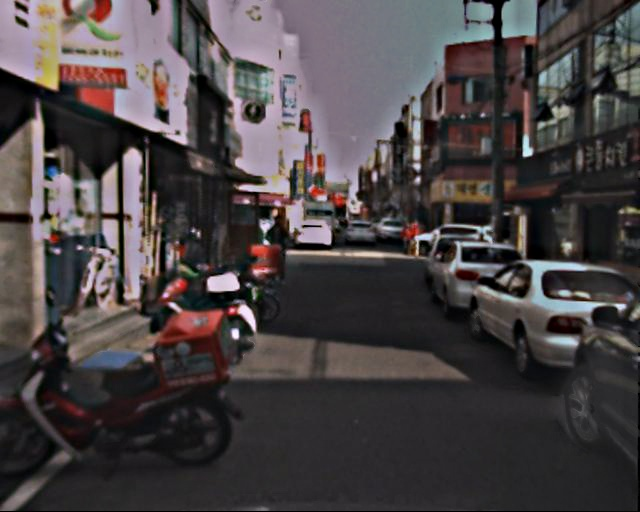person: (265, 216, 295, 289), (401, 221, 422, 255)
